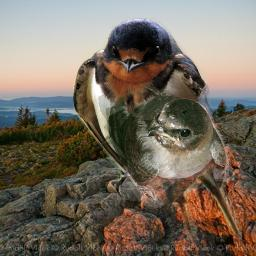Swallow: (73, 18, 242, 240), (90, 84, 229, 209)
